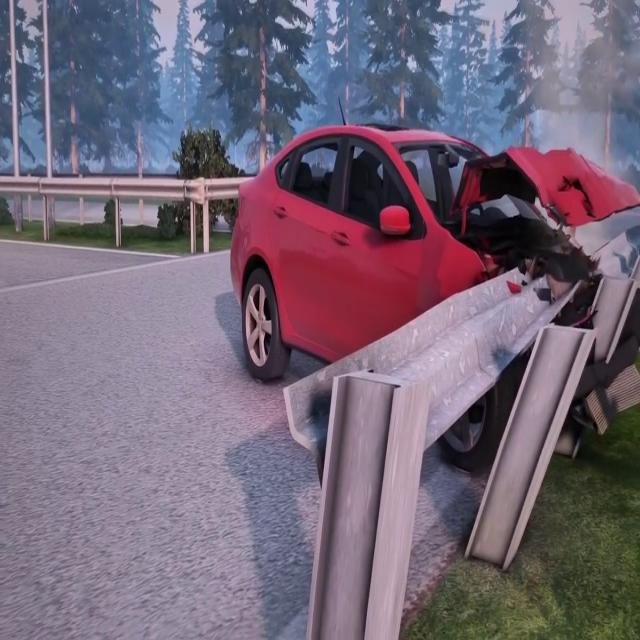accident: (206, 116, 632, 467)
